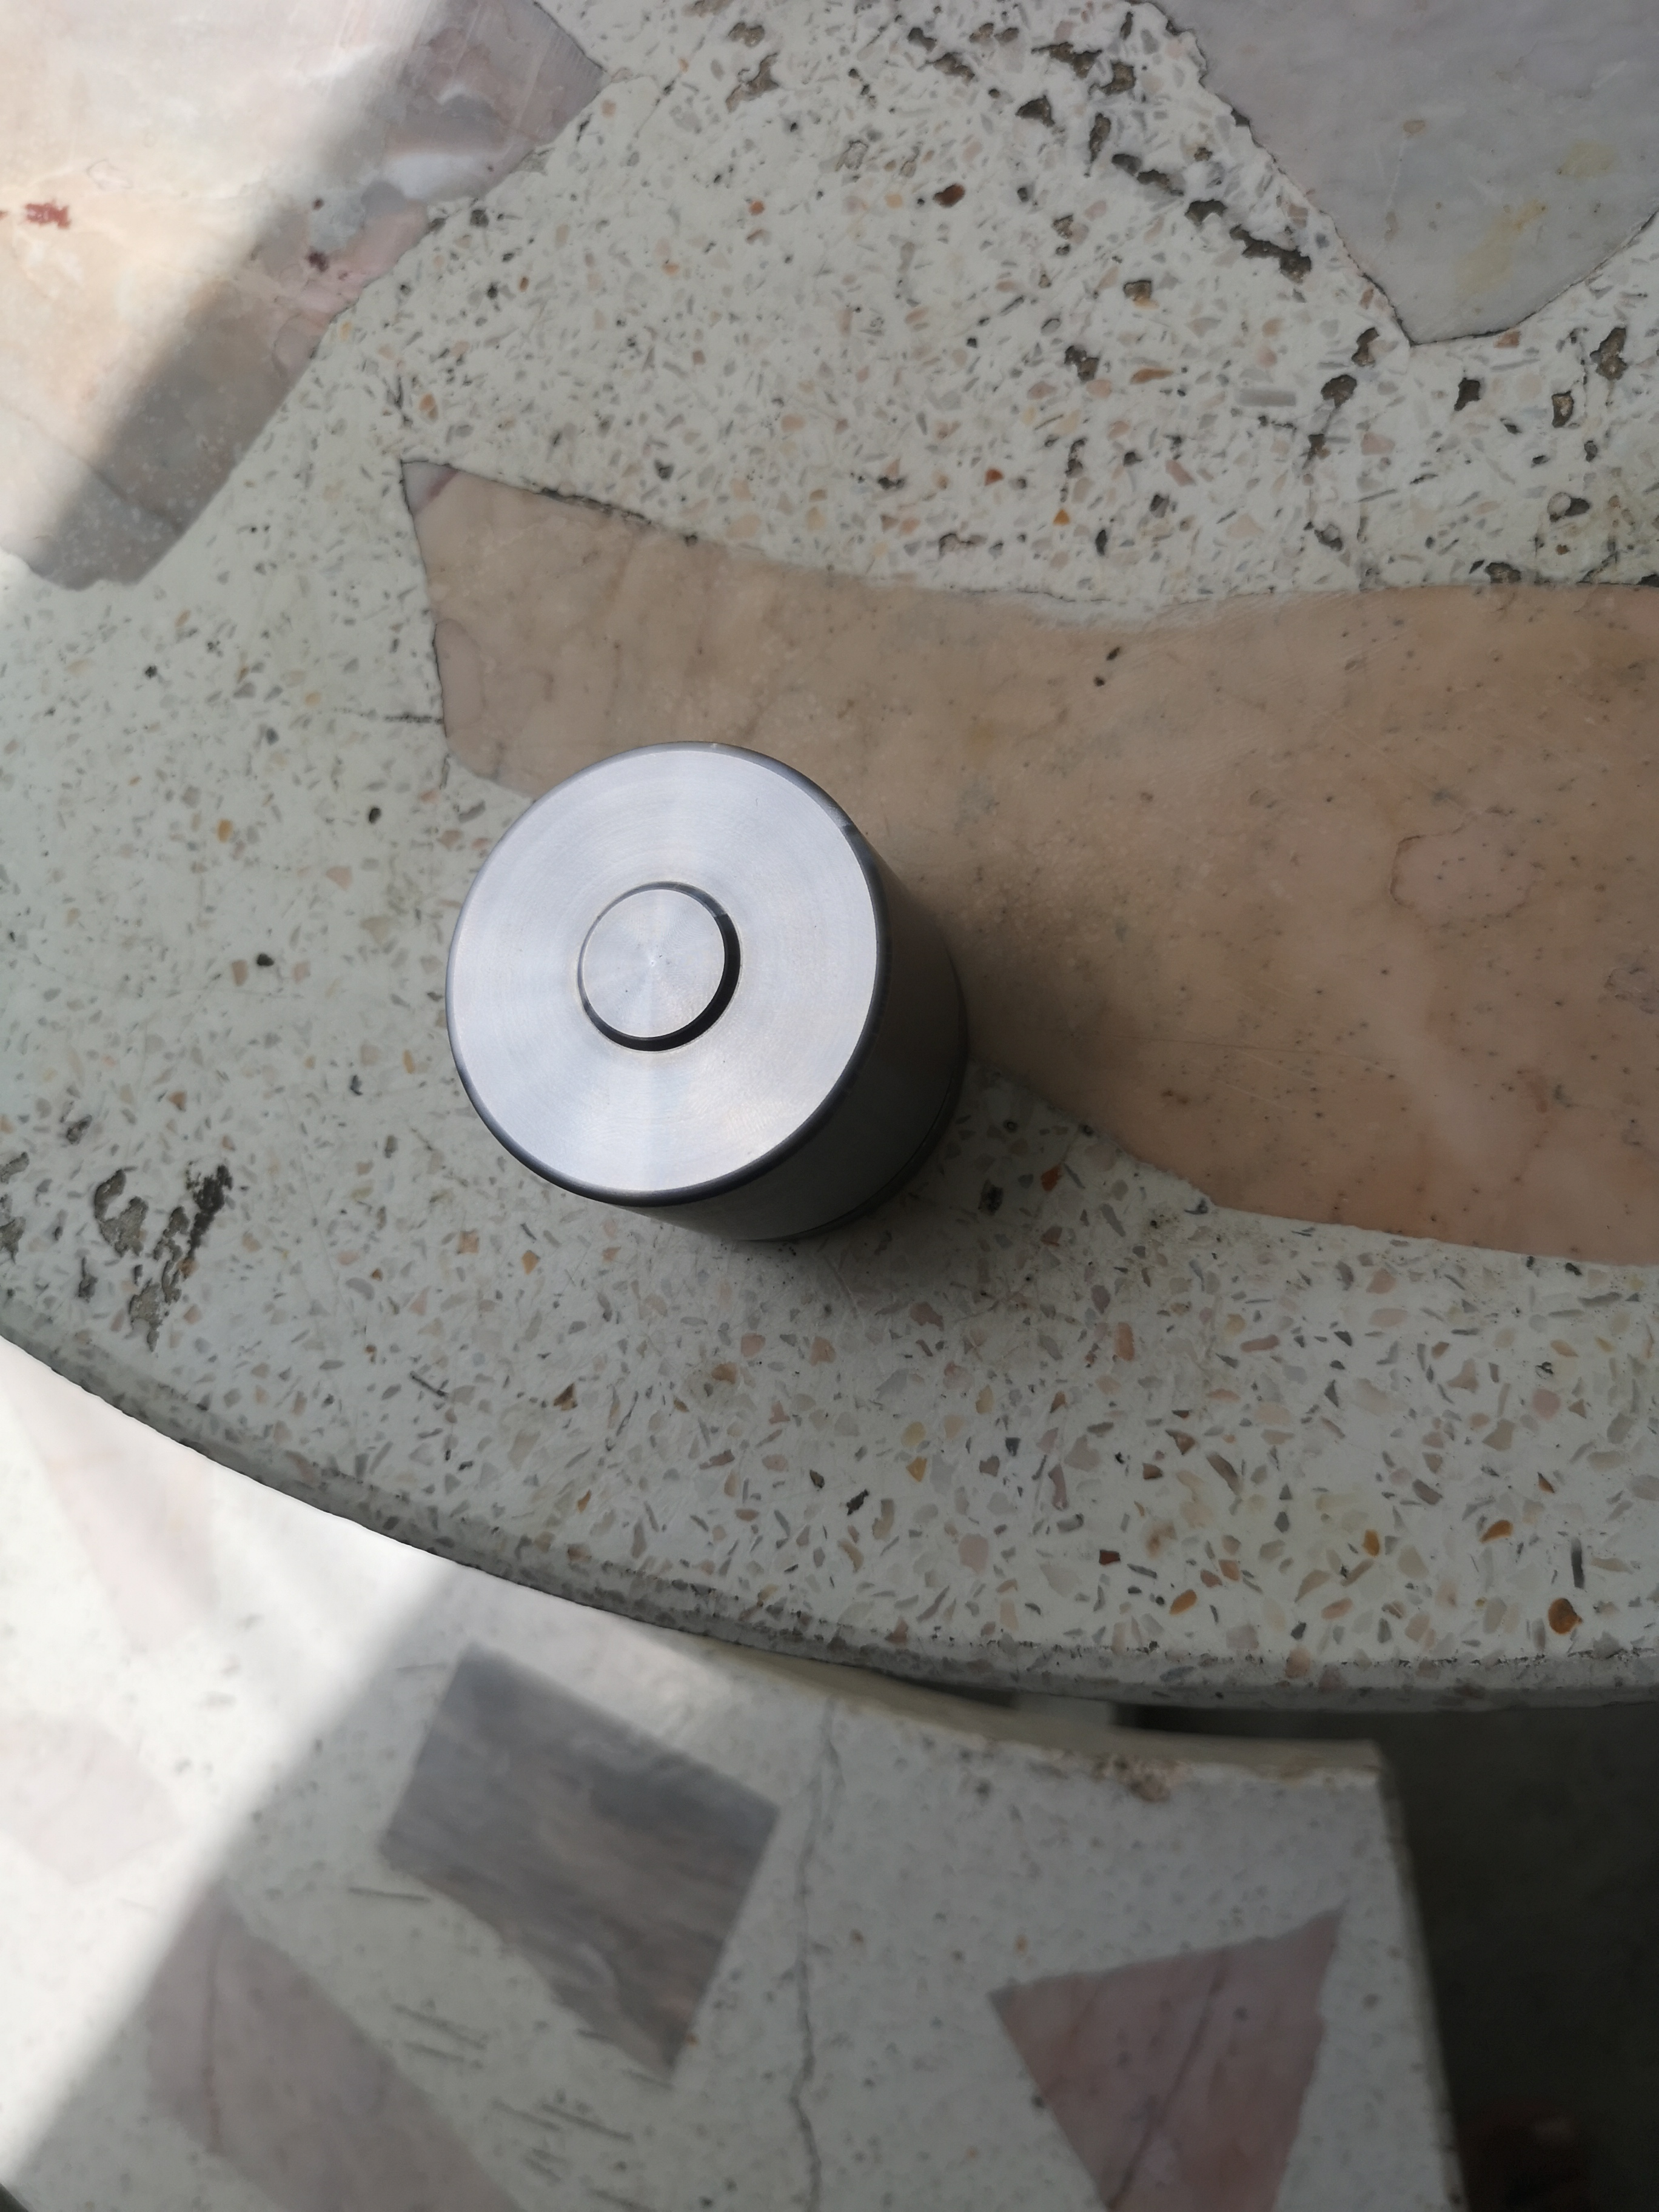ลูกสูบดิสเบรค: (404, 667, 971, 1235)
